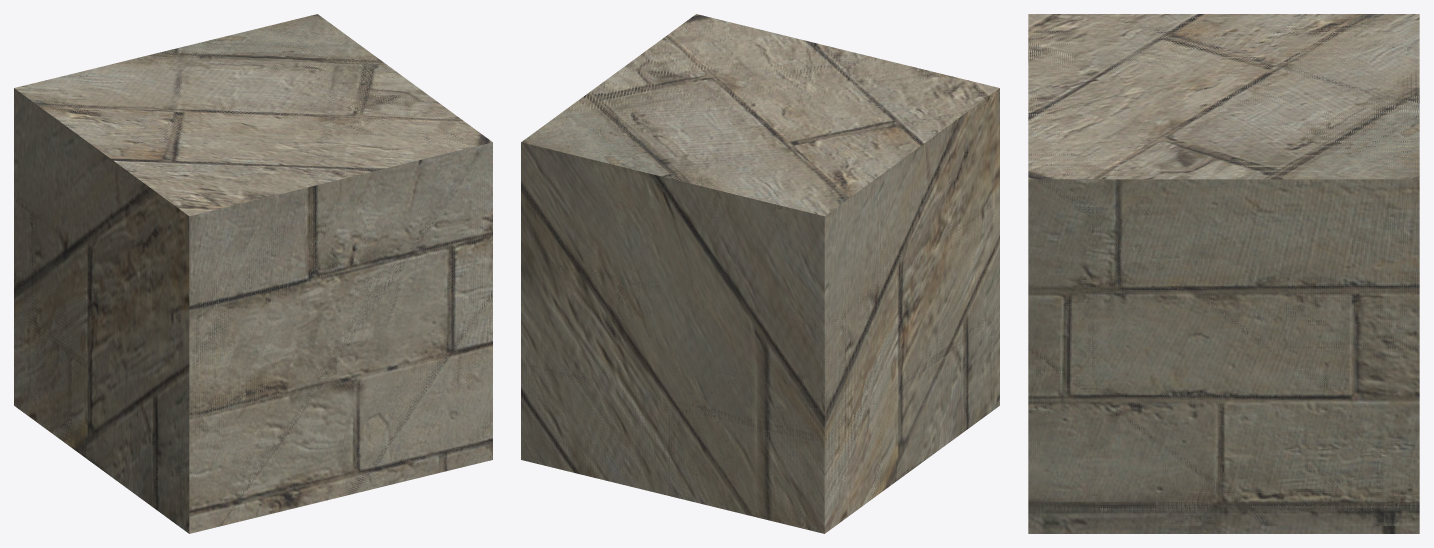
File: Test_DB_Tex.obj
3 views of the same model, side by side, from view 1: azimuth 30°, elevation 25°; view 2: azimuth 150°, elevation 25°; view 3: azimuth 270°, elevation 25° (orthographic). The views are drawn at different scales.
Visible parts, largest first — view 1: Test_01 Test_01_b; view 2: Test_01 Test_01_b; view 3: Test_01 Test_01_b.
Part boxes in pixels (x1,y1,x2,y2): Test_01 Test_01_b: [14, 14, 492, 533]; Test_01 Test_01_b: [521, 14, 999, 533]; Test_01 Test_01_b: [1028, 14, 1419, 533].
Size of the model in its own units: 1500 by 1500 by 1500.
1 material, 1 textured.
